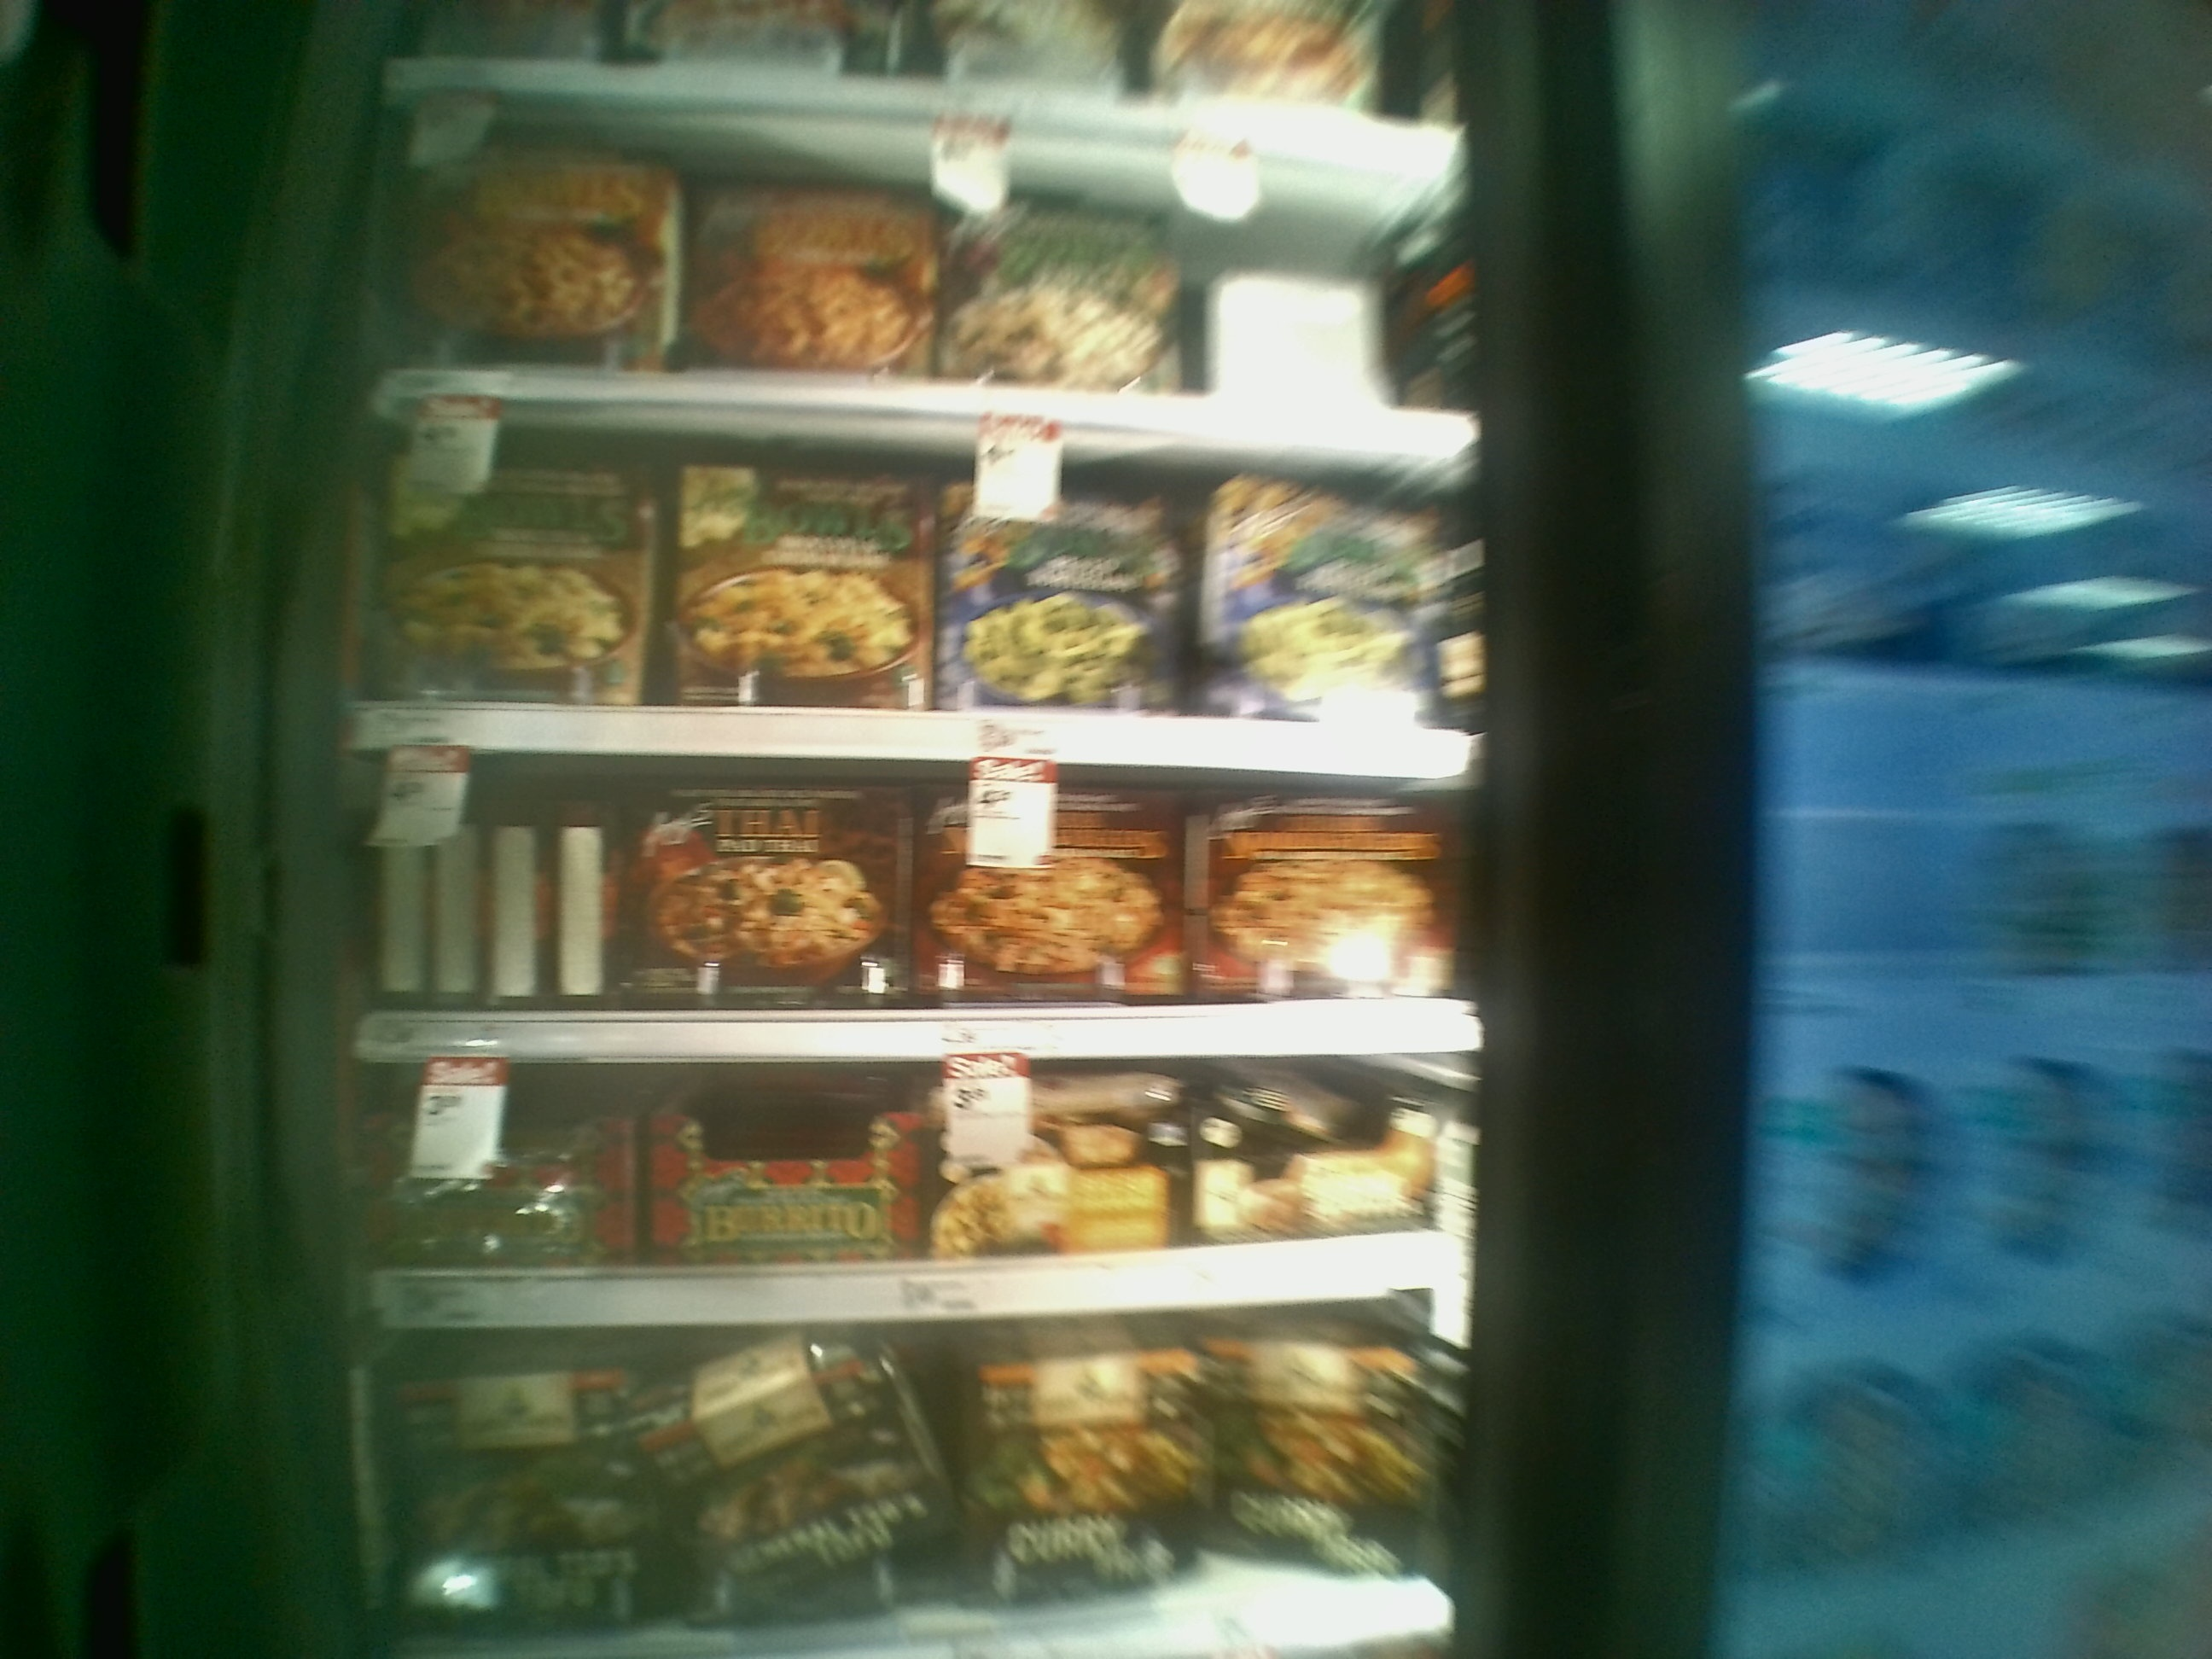frozen-food-shelf: (350, 113, 1508, 476), (336, 471, 1515, 777), (324, 1058, 1519, 1342), (329, 782, 1515, 1063)
